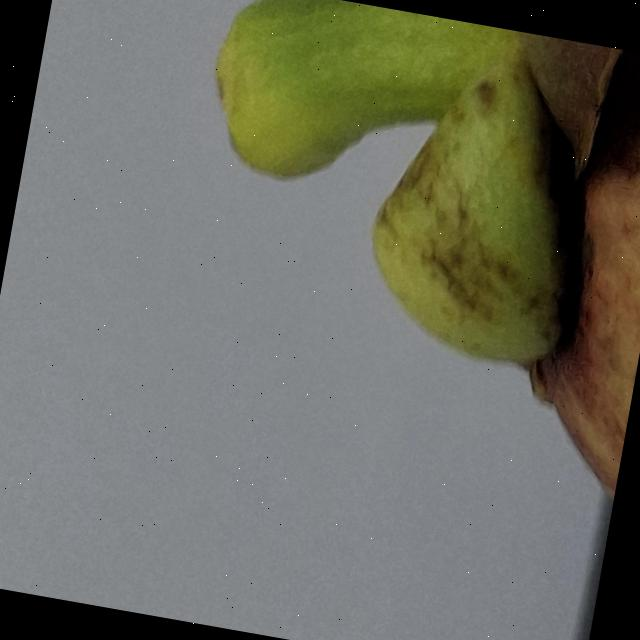mangosteen: (76, 0, 640, 612)
